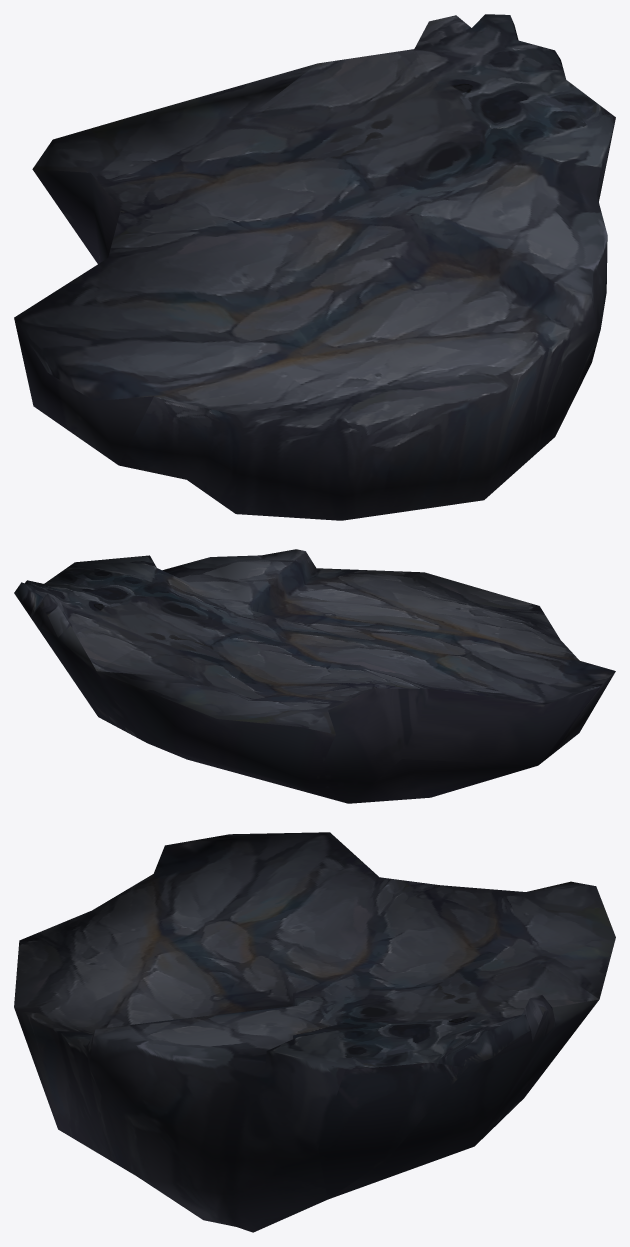
Rendered from fb_csd_zj_14_a.FBX.
The picture shows the model from 3 angles, top to bottom: view 1: azimuth 30°, elevation 25°; view 2: azimuth 150°, elevation 25°; view 3: azimuth 270°, elevation 25°; orthographic projection. The views are drawn at different scales.
Visible parts, largest first — view 1: fb_csd_zj_14_c; view 2: fb_csd_zj_14_c; view 3: fb_csd_zj_14_c.
Boxes of the visible parts, <box> form: fb_csd_zj_14_c: <box>14,14,615,520</box>; fb_csd_zj_14_c: <box>14,549,615,803</box>; fb_csd_zj_14_c: <box>14,832,615,1232</box>.
Size of the model in its own units: 593 by 268 by 513.
